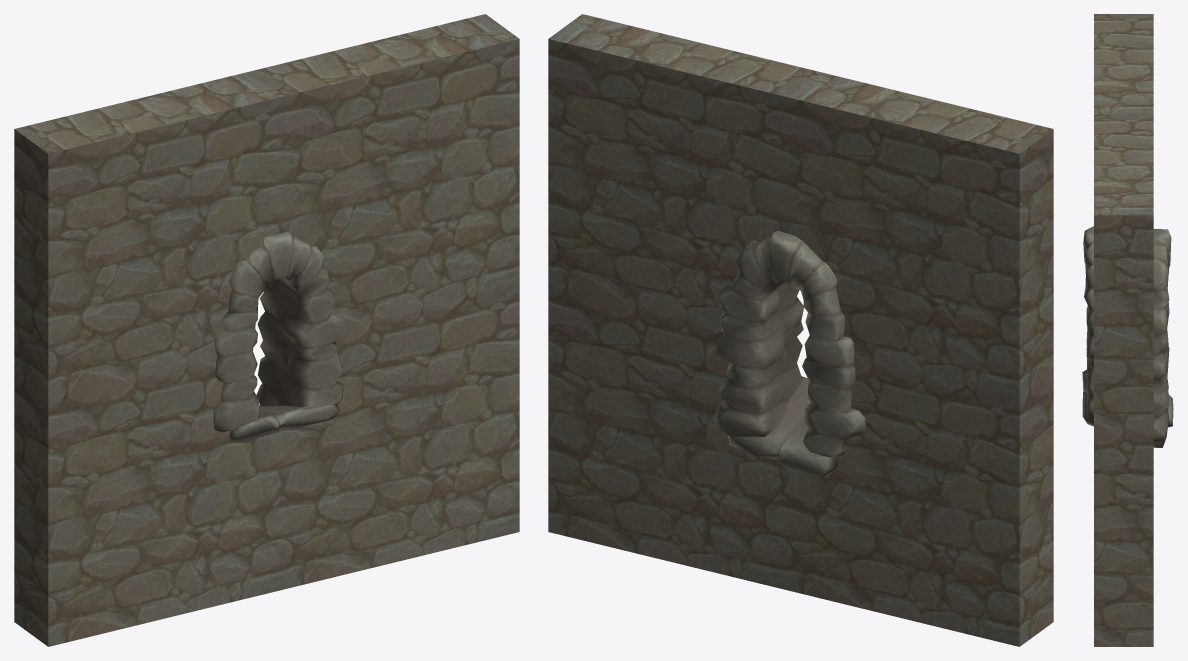
The model's file is SM_FW01_Ruins_Int_Window_A_4x4_01.fbx.
3 views of the same model, side by side, from view 1: azimuth 30°, elevation 25°; view 2: azimuth 150°, elevation 25°; view 3: azimuth 270°, elevation 25° (orthographic). The views are drawn at different scales.
Parts seen in each view (by area): view 1: SM_FW01_Ruins_Int_Window_A_4x4_01, SM_FW01_Ruins_Int_Window_A_4x4_01_LOD0; view 2: SM_FW01_Ruins_Int_Window_A_4x4_01, SM_FW01_Ruins_Int_Window_A_4x4_01_LOD0; view 3: SM_FW01_Ruins_Int_Window_A_4x4_01, SM_FW01_Ruins_Int_Window_A_4x4_01_LOD0.
Boxes of the visible parts, x1,y1,x2,y2 form: SM_FW01_Ruins_Int_Window_A_4x4_01: (14, 14, 519, 646); SM_FW01_Ruins_Int_Window_A_4x4_01_LOD0: (213, 231, 345, 443); SM_FW01_Ruins_Int_Window_A_4x4_01: (548, 14, 1053, 646); SM_FW01_Ruins_Int_Window_A_4x4_01_LOD0: (714, 231, 865, 476); SM_FW01_Ruins_Int_Window_A_4x4_01: (1094, 14, 1153, 646); SM_FW01_Ruins_Int_Window_A_4x4_01_LOD0: (1082, 226, 1173, 447).
Size of what is drawn, in the model's own units: 4 by 4 by 0.7647.
